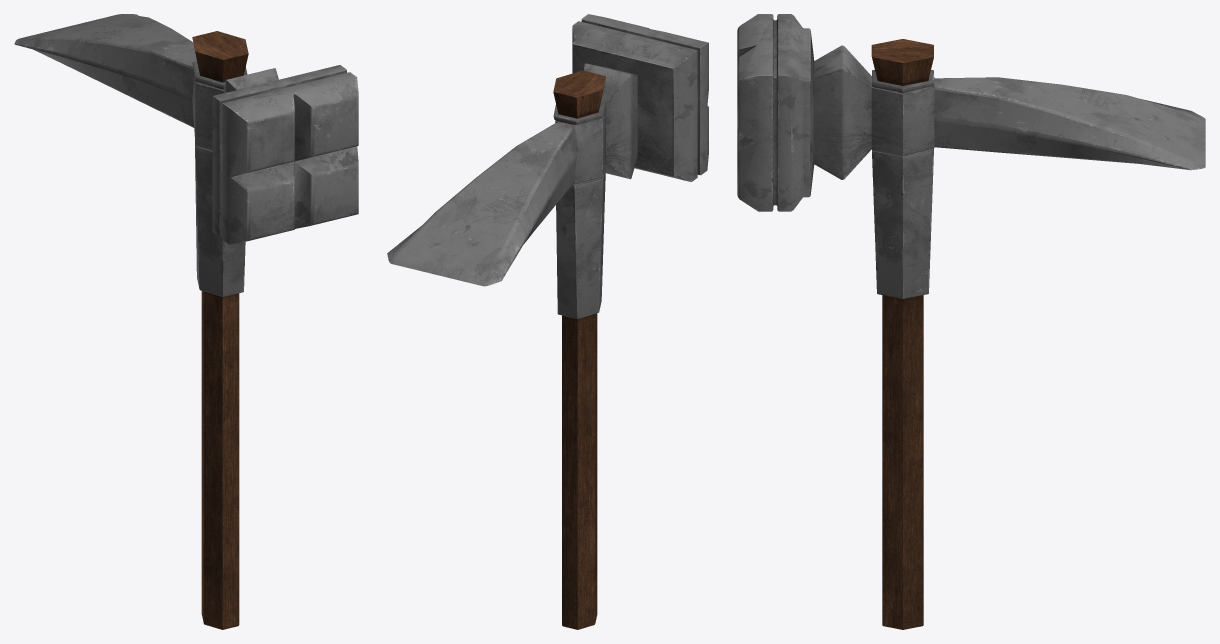
The model's file is pickaxeBlender.fbx.
3 views of the same model, side by side, from view 1: azimuth 30°, elevation 25°; view 2: azimuth 150°, elevation 25°; view 3: azimuth 270°, elevation 25° (orthographic). The views are drawn at different scales.
Parts seen in each view (by area): view 1: Cylinder.003; view 2: Cylinder.003; view 3: Cylinder.003.
Boxes of the visible parts, x1,y1,x2,y2 form: Cylinder.003: [14, 14, 358, 629]; Cylinder.003: [387, 14, 708, 629]; Cylinder.003: [737, 14, 1205, 629].
Bounding box in the file's own units: 23.25 × 101 × 74.44.
Materials: 1 (1 with a texture image).
